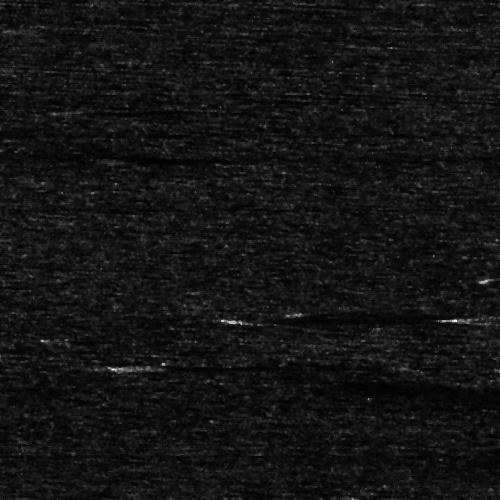object: (55, 358, 222, 373), (417, 312, 500, 325), (249, 307, 342, 314), (205, 315, 278, 322), (439, 274, 500, 281), (53, 335, 106, 342), (37, 107, 110, 112), (86, 154, 127, 161), (384, 339, 425, 342), (486, 362, 500, 369)
shadow: (139, 358, 366, 373), (296, 307, 451, 314), (242, 315, 396, 322), (73, 107, 283, 112), (107, 154, 248, 161), (458, 312, 500, 325), (80, 335, 154, 342), (0, 92, 50, 97), (404, 339, 486, 342)
